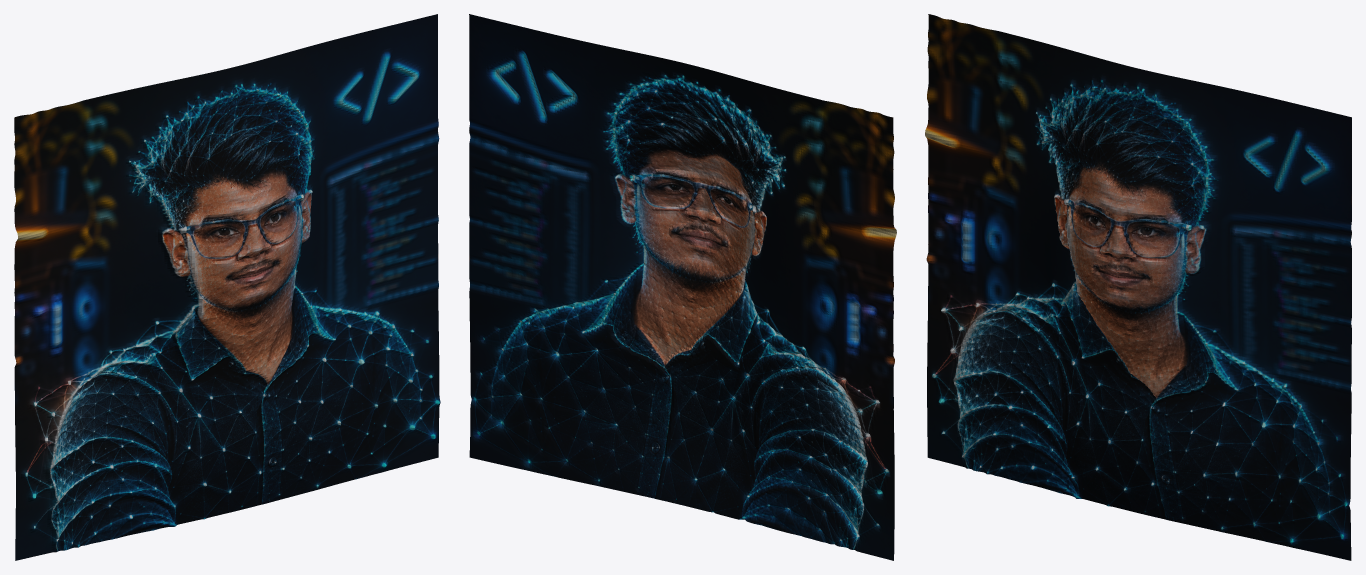
Rendered from tech_node_portrait_3d.glb.
3 views of the same model, side by side, from view 1: azimuth 30°, elevation 25°; view 2: azimuth 150°, elevation 25°; view 3: azimuth 330°, elevation 25° (orthographic).
Visible parts, largest first — view 1: world; view 2: world; view 3: world.
Part boxes in pixels (box(x1,y1,x2,y2)): world: box(14, 14, 440, 560); world: box(469, 14, 896, 560); world: box(925, 14, 1351, 560).
Bounding box in the file's own units: 2 × 2 × 0.2294.
Materials: 1 (1 with a texture image).
